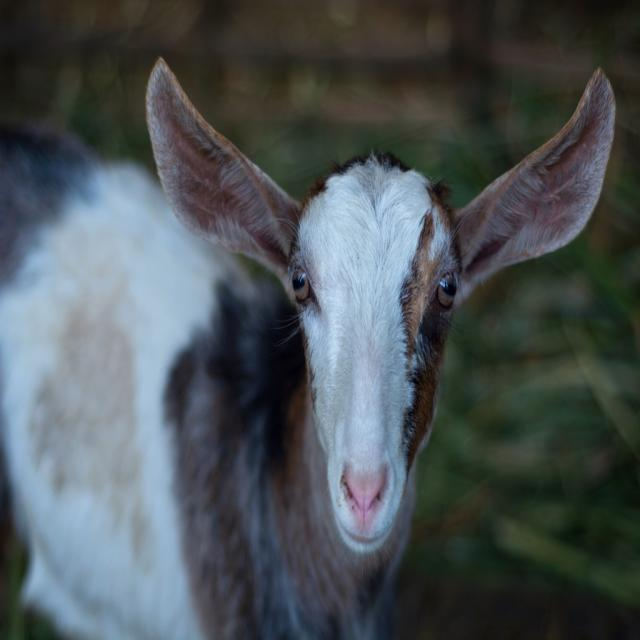Goat: (0, 51, 616, 635)
